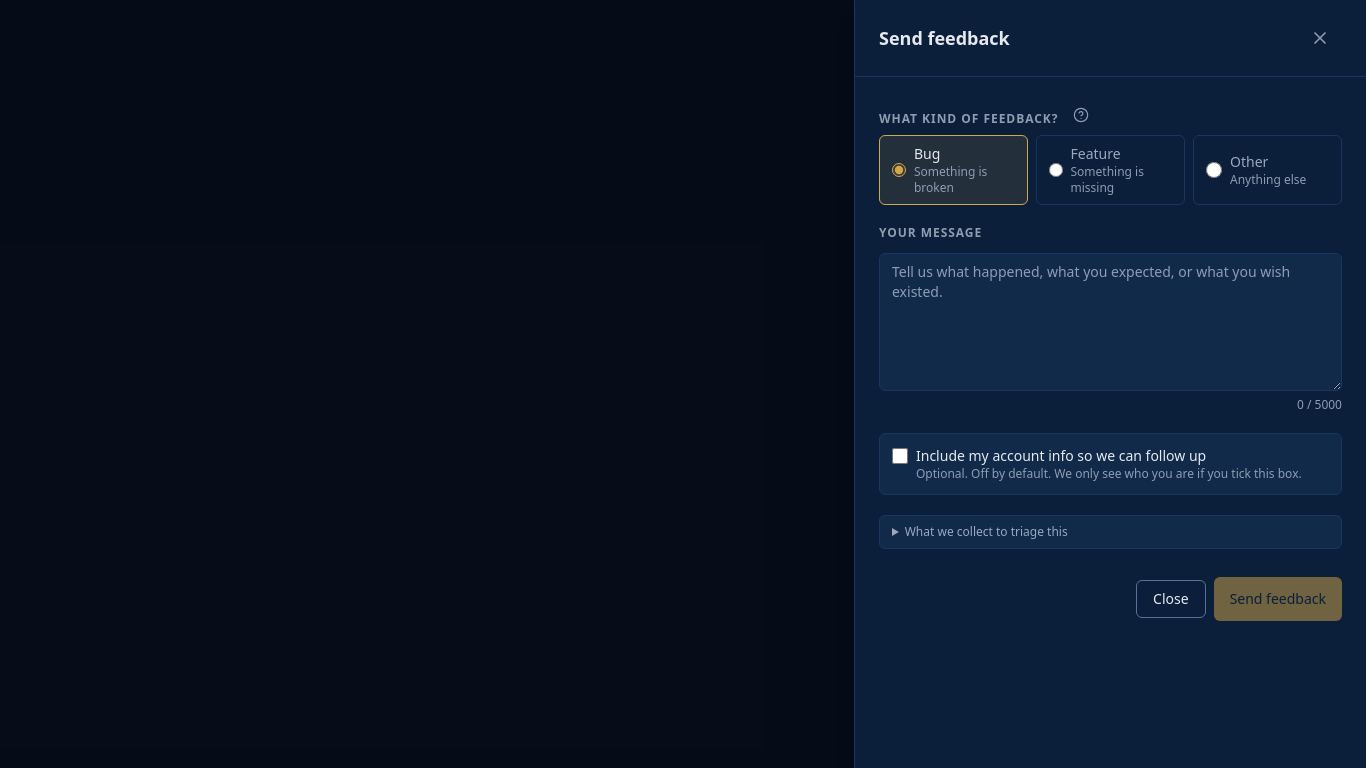
Test: FeedbackWidget › shows a success message after a successful submit
The width and height of the screenshot is (1366, 768).
Replace the text in the text box with test id "feedback-message" with "x": (1110, 322) [879,253,1342,391]
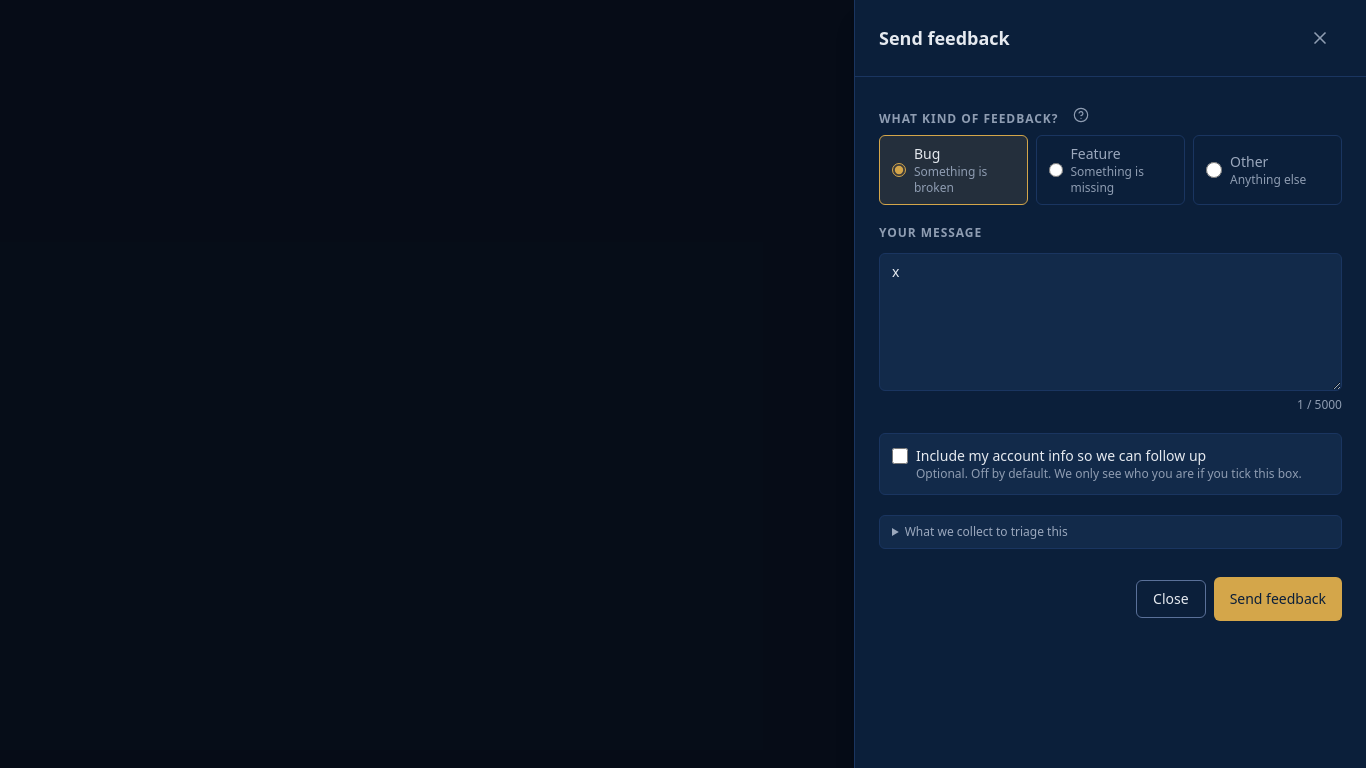
Click the button with test id "feedback-submit": (1278, 599) [1214,577,1342,621]
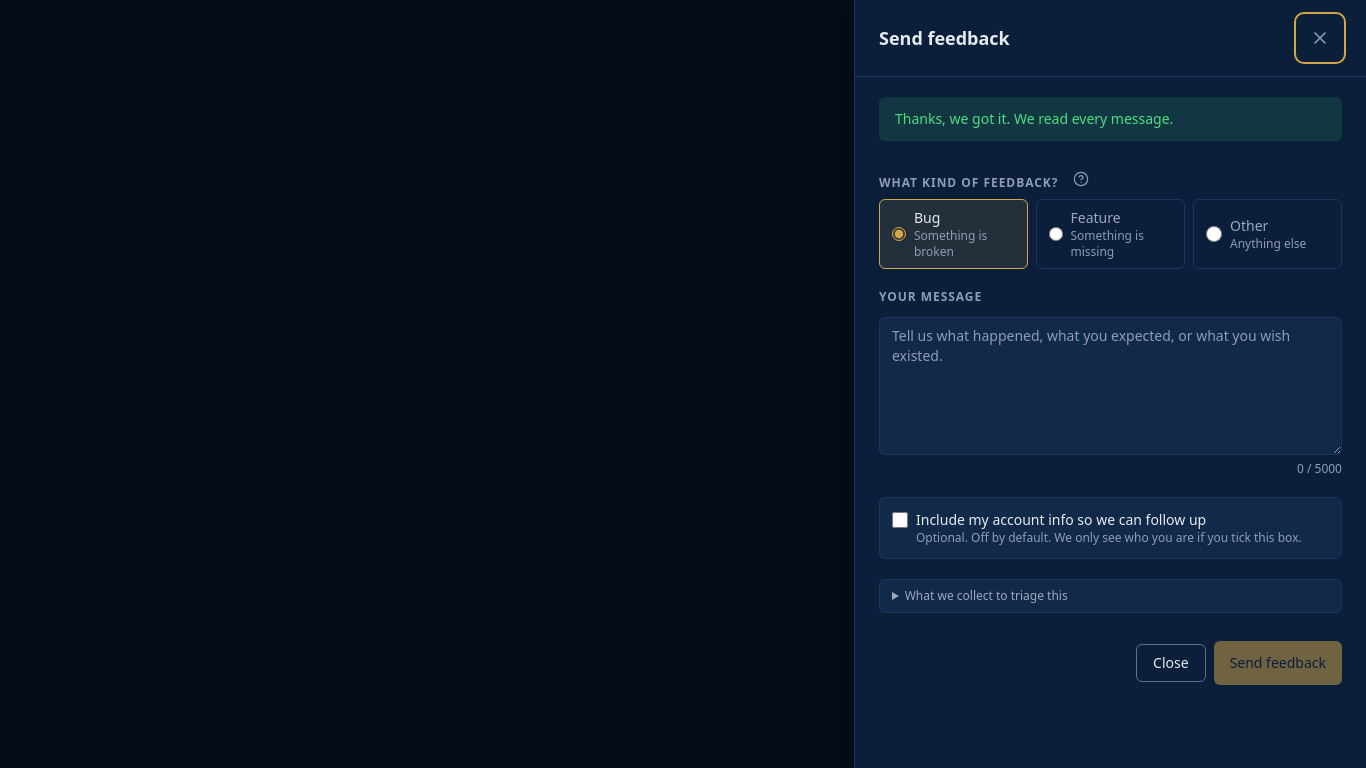
Result: the message "Thanks, we got it. We read every message." is shown at [879,97,1342,141]
